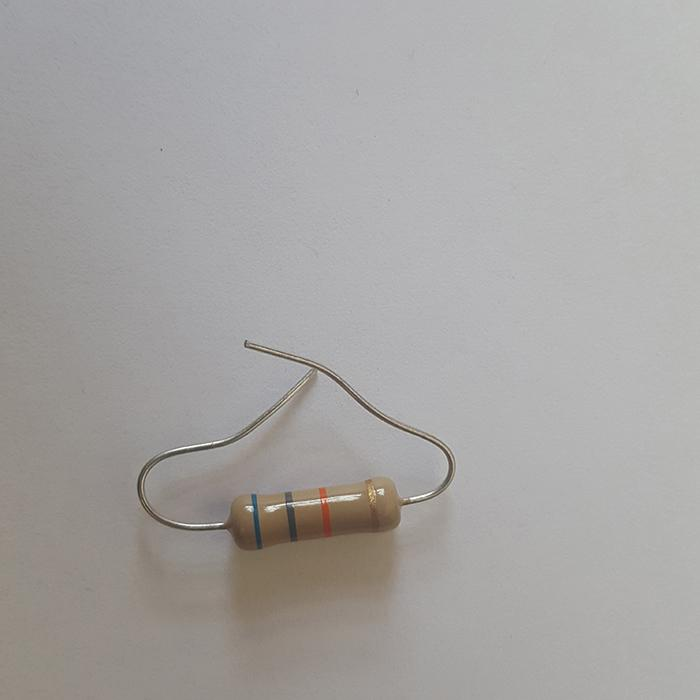resistor: (226, 475, 404, 550)
